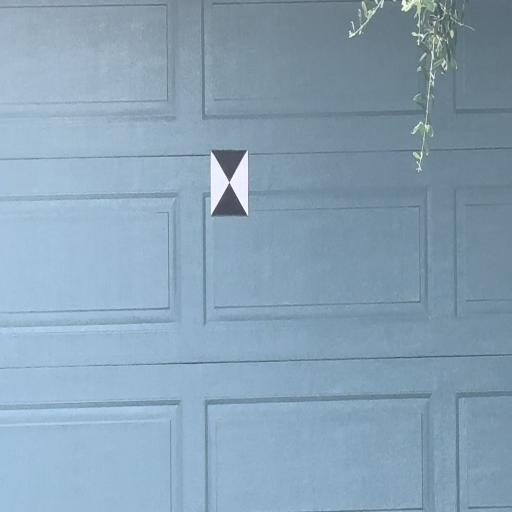target: (211, 150, 248, 217)
